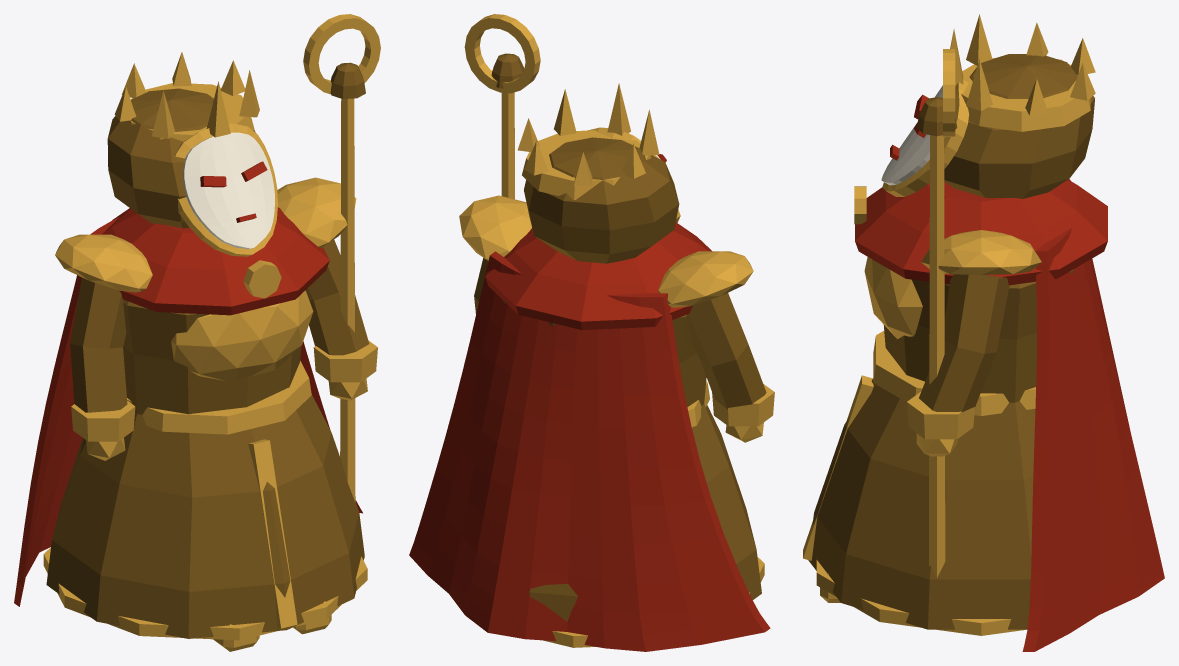
File: last_warden_body.glb
The picture shows the model from 3 angles, left to right: view 1: azimuth 30°, elevation 25°; view 2: azimuth 150°, elevation 25°; view 3: azimuth 270°, elevation 25°; orthographic projection. The views are drawn at different scales.
Visible parts, largest first — view 1: last_warden_body_body, last_warden_body_mantle, last_warden_body_head, last_warden_body_mask; view 2: last_warden_body_mantle, last_warden_body_body, last_warden_body_head; view 3: last_warden_body_body, last_warden_body_mantle, last_warden_body_head, last_warden_body_mask.
Boxes of the visible parts, <box> form: last_warden_body_body: <box>43,14,380,651</box>; last_warden_body_mantle: <box>14,207,362,606</box>; last_warden_body_head: <box>107,52,259,228</box>; last_warden_body_mask: <box>175,123,277,256</box>; last_warden_body_mantle: <box>409,209,770,651</box>; last_warden_body_body: <box>459,14,774,647</box>; last_warden_body_head: <box>517,83,679,263</box>; last_warden_body_body: <box>803,49,1073,635</box>; last_warden_body_mantle: <box>854,179,1164,651</box>; last_warden_body_head: <box>944,14,1095,198</box>; last_warden_body_mask: <box>881,73,969,196</box>.
Bounding box in the file's own units: 1.08 × 1.61 × 0.8975.
